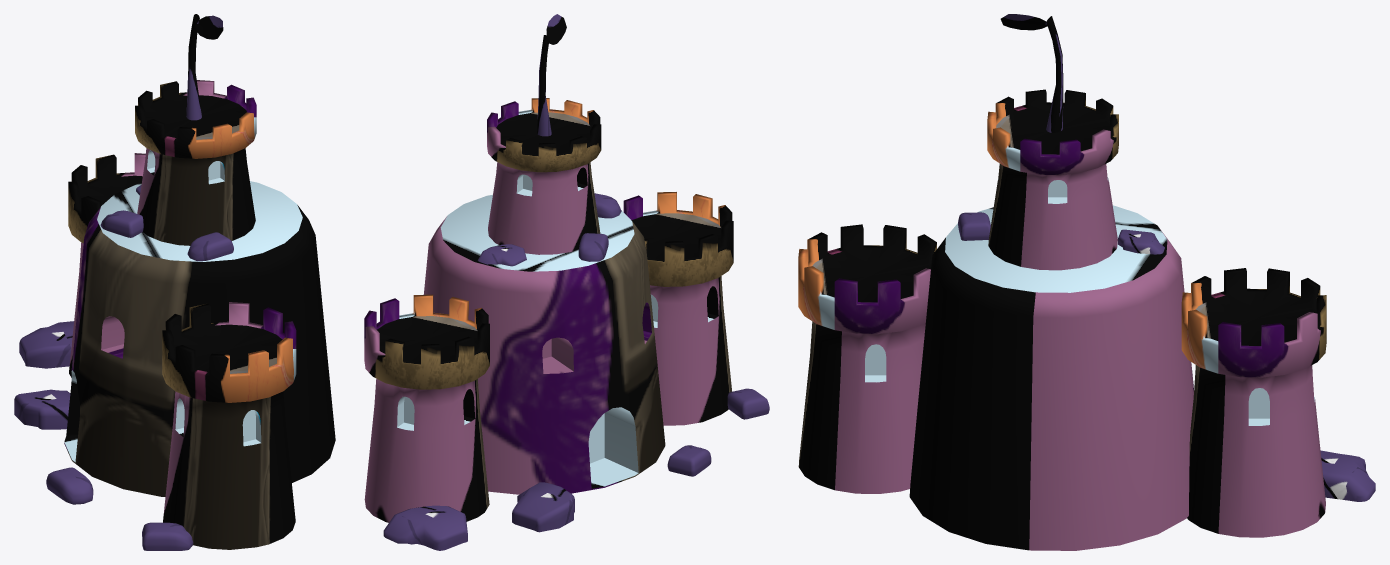
The model's file is Castillo_4.fbx.
The picture shows the model from 3 angles, left to right: view 1: azimuth 30°, elevation 25°; view 2: azimuth 150°, elevation 25°; view 3: azimuth 270°, elevation 25°; orthographic projection. The views are drawn at different scales.
Parts seen in each view (by area): view 1: Rock29; view 2: Rock29; view 3: Rock29.
Part boxes in pixels (x1=…): Rock29: x1=14, y1=14, x2=335, y2=550; Rock29: x1=364, y1=14, x2=769, y2=550; Rock29: x1=798, y1=14, x2=1375, y2=550.
Bounding box in the file's own units: 129 × 199 × 214.
